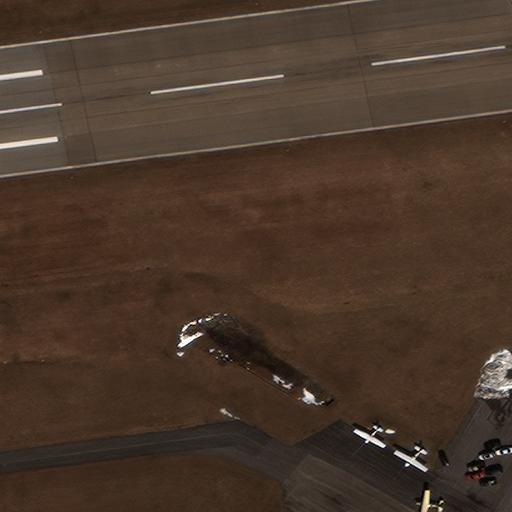Small Civil Transport: (392, 447, 424, 472), (352, 426, 383, 448), (415, 489, 442, 511)
